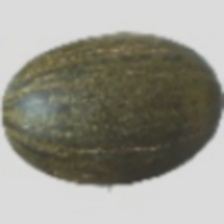honeydew: (30, 17, 169, 184)
